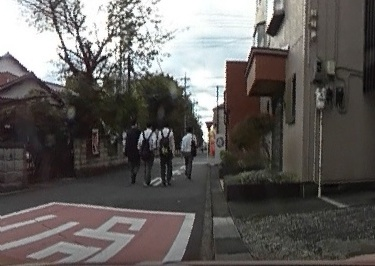person: (156, 120, 175, 185), (139, 121, 159, 182), (177, 126, 198, 177), (126, 122, 144, 181)
